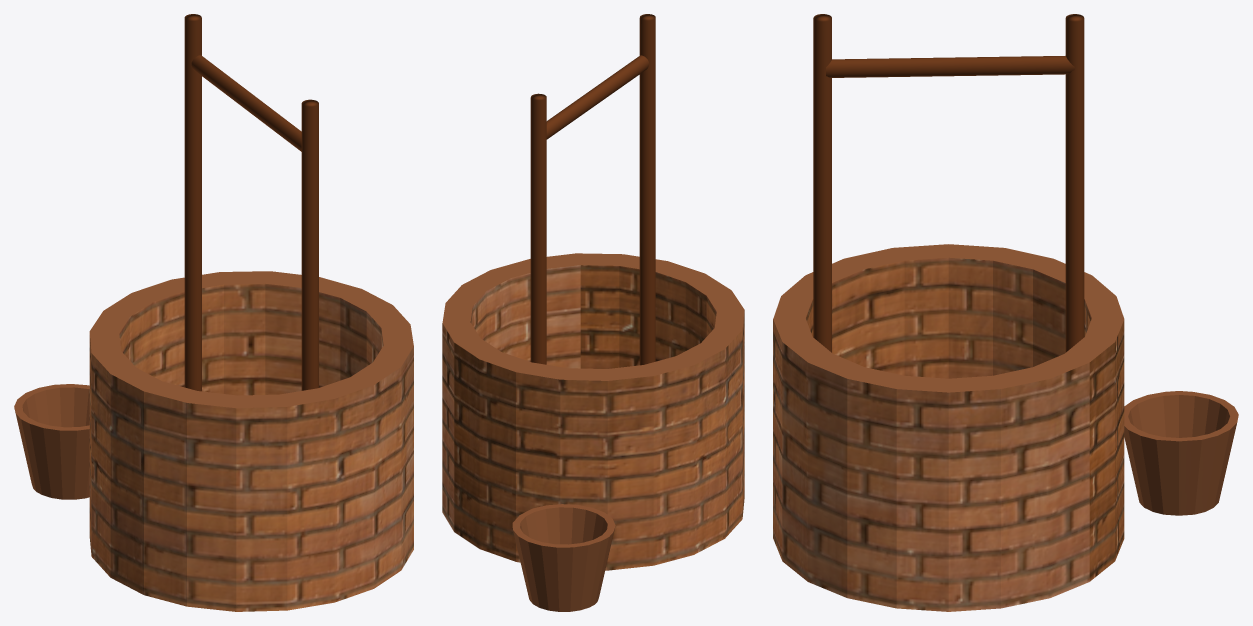
File: wellandbucket.fbx
3 views of the same model, side by side, from view 1: azimuth 30°, elevation 25°; view 2: azimuth 150°, elevation 25°; view 3: azimuth 270°, elevation 25° (orthographic). The views are drawn at different scales.
Parts seen in each view (by area): view 1: pCylinder6, pCylinder7, pCylinder5; view 2: pCylinder6, pCylinder7, pCylinder5; view 3: pCylinder6, pCylinder7, pCylinder5.
Part boxes in pixels (box(x1,y1,x2,y2)): pCylinder6: box(89, 271, 413, 611); pCylinder7: box(184, 14, 318, 391); pCylinder5: box(14, 384, 89, 499); pCylinder6: box(442, 253, 744, 570); pCylinder7: box(530, 14, 655, 365); pCylinder5: box(512, 504, 615, 611); pCylinder6: box(773, 244, 1124, 611); pCylinder7: box(813, 14, 1084, 352); pCylinder5: box(1124, 391, 1238, 515).
Size of the model in its own units: 2.26 by 3.69 by 2.99.
